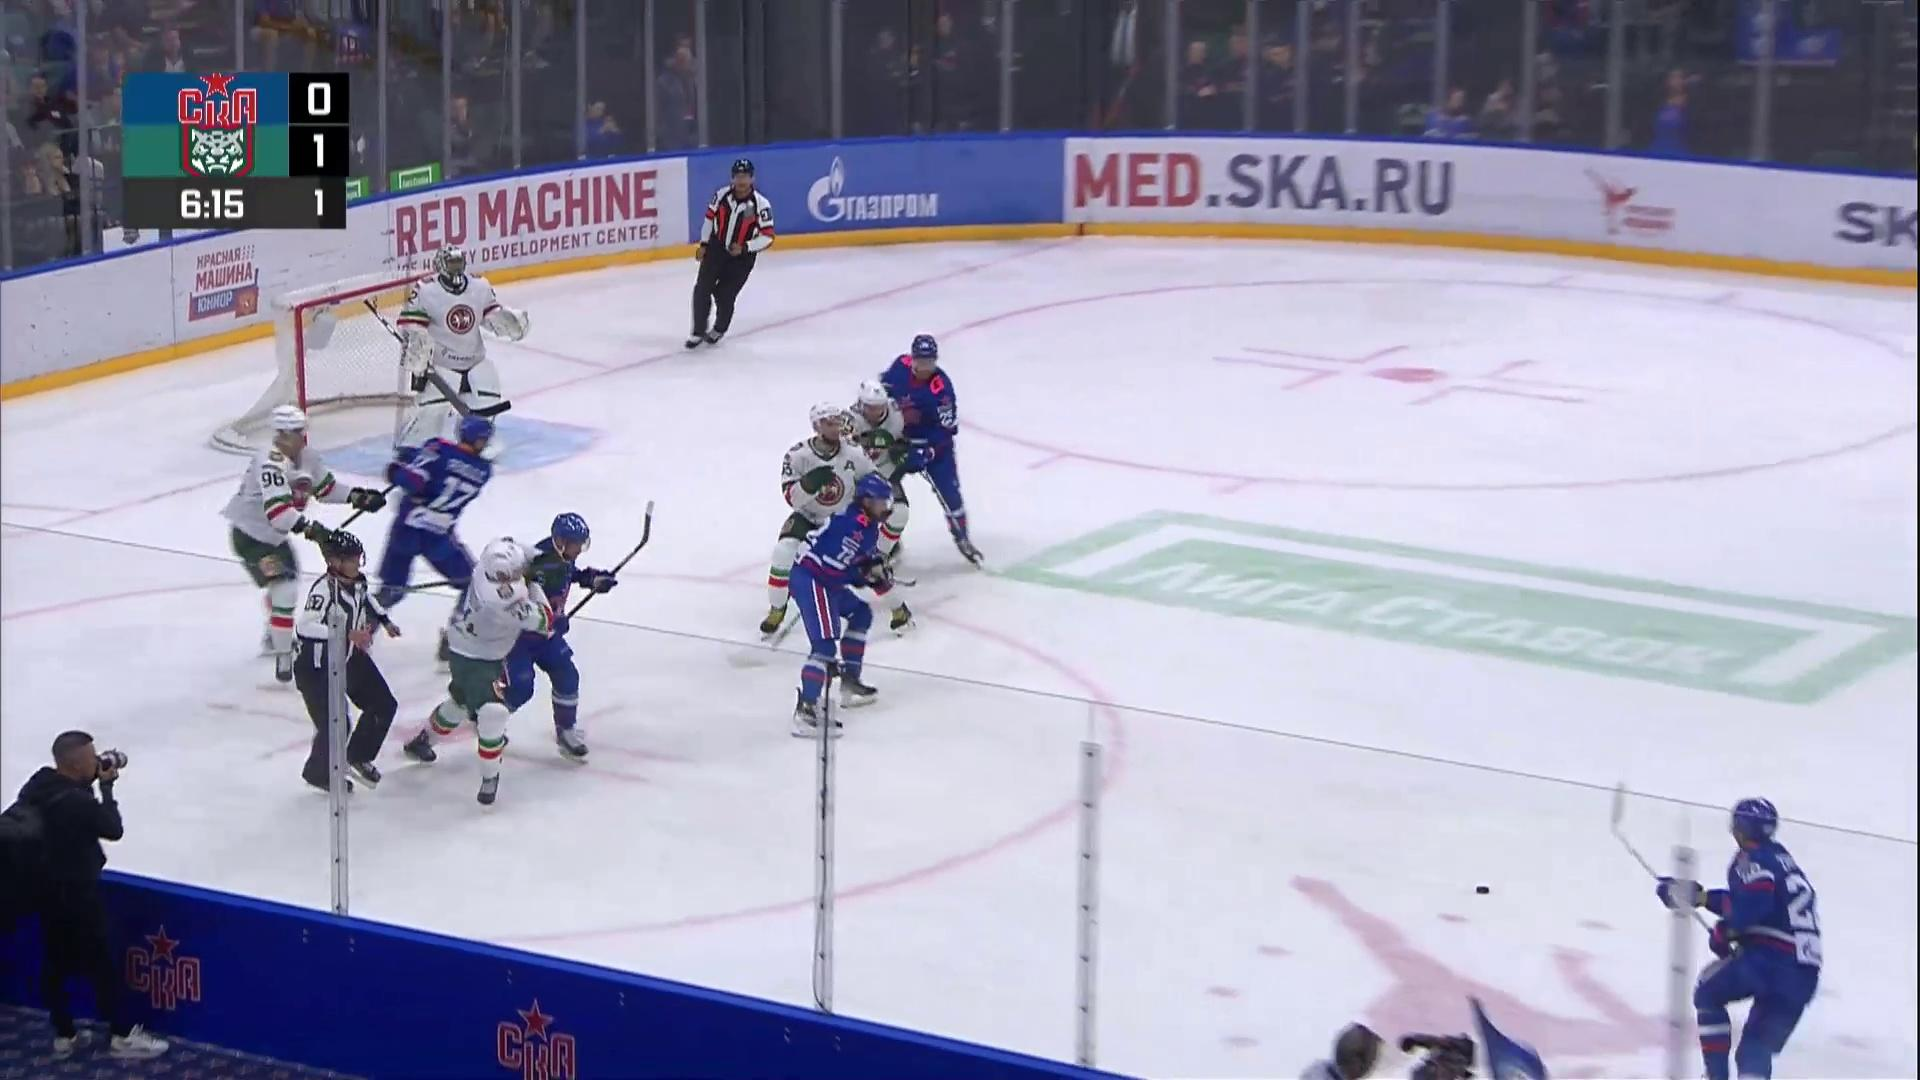ball: (1476, 886, 1489, 894)
